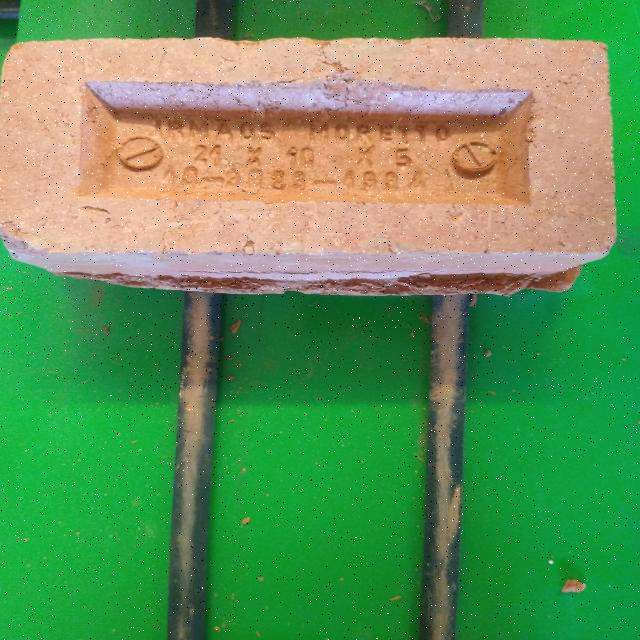bricks_ruin: (0, 35, 618, 297)
